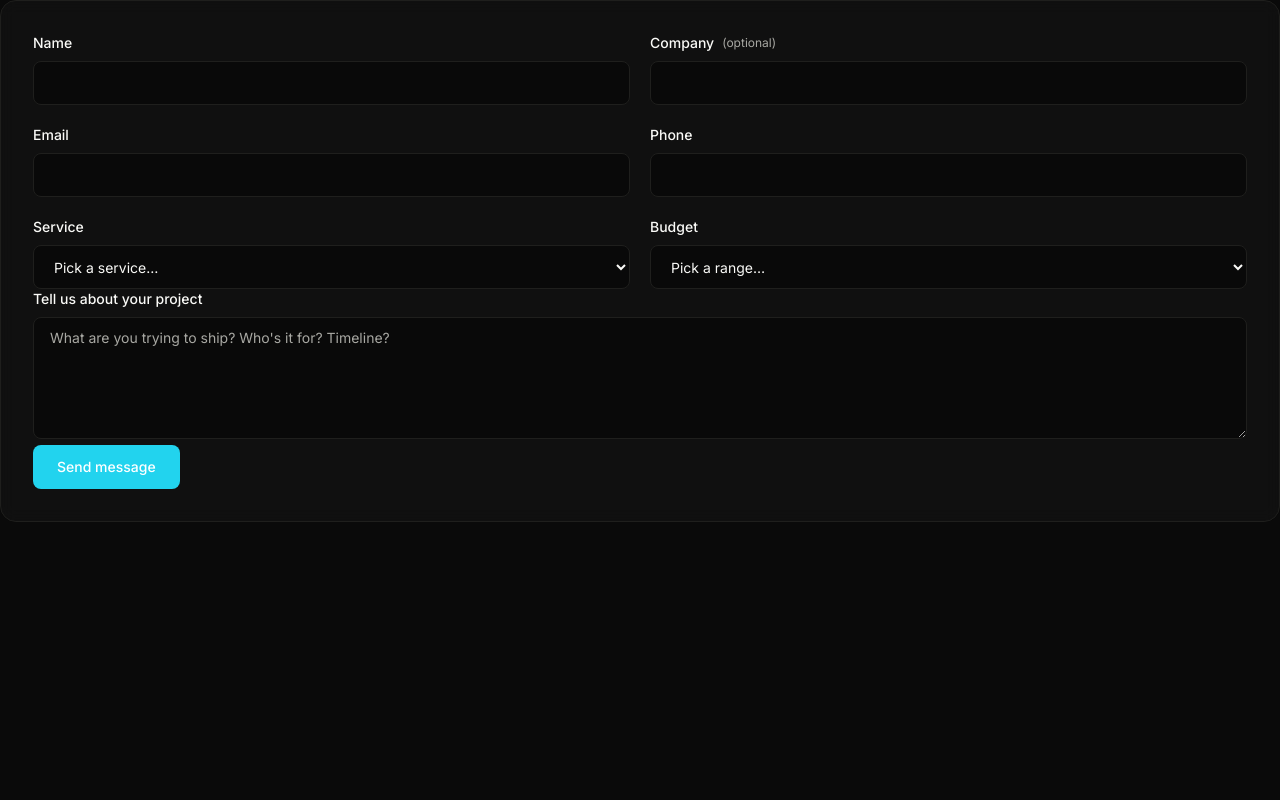
Scenario: ContactForm — validation errors › shows Description error for short description
The width and height of the screenshot is (1280, 800).
Type "too short" into the text box labelled "Tell us about your project" at (640, 378), box [33,317,1247,439]
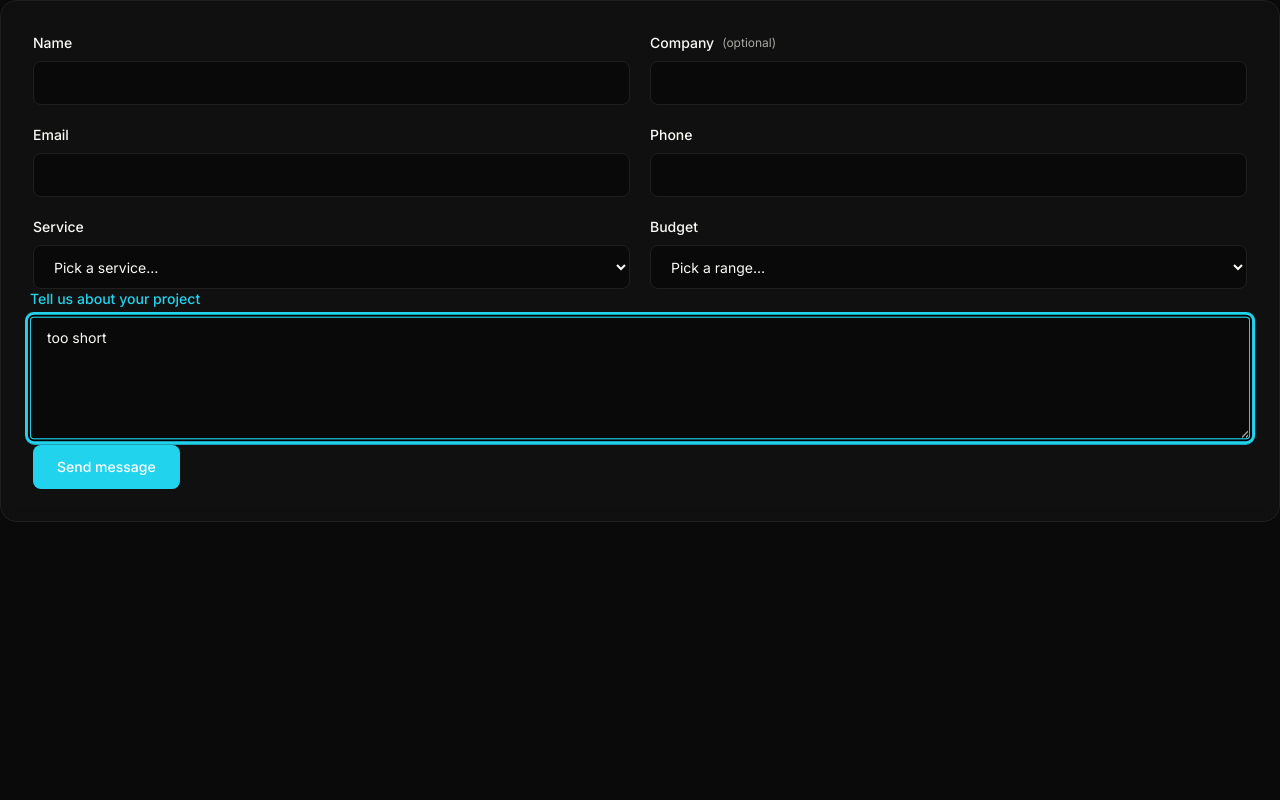
Click the button "Send message" at (106, 467), box [33,445,180,489]
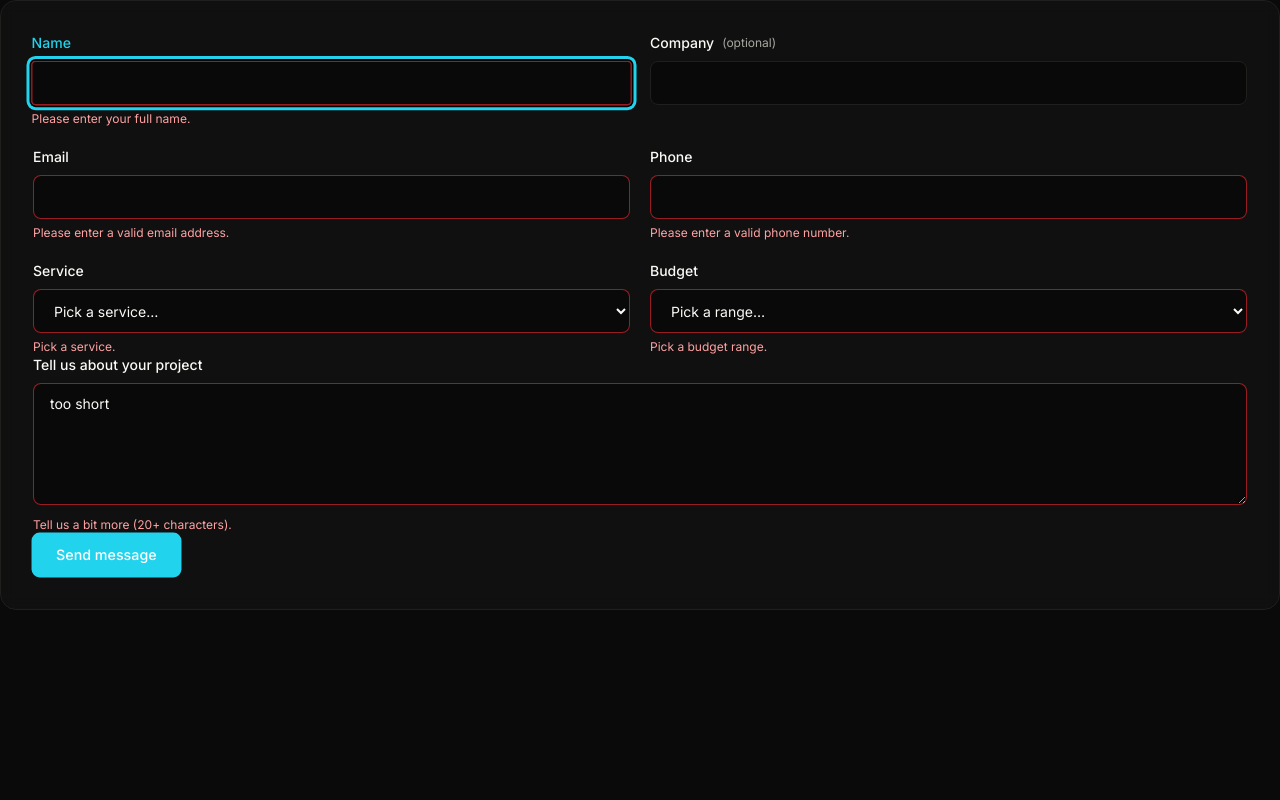
Expected: the text "Tell us a bit more (20+ characters)." is shown, [33,517,232,532]
